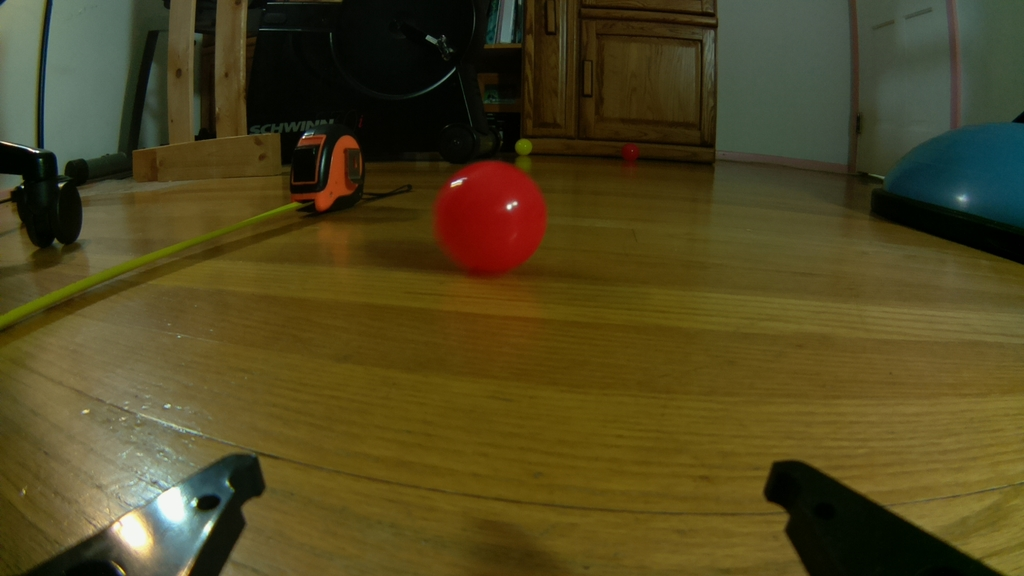ball: (431, 161, 549, 279)
